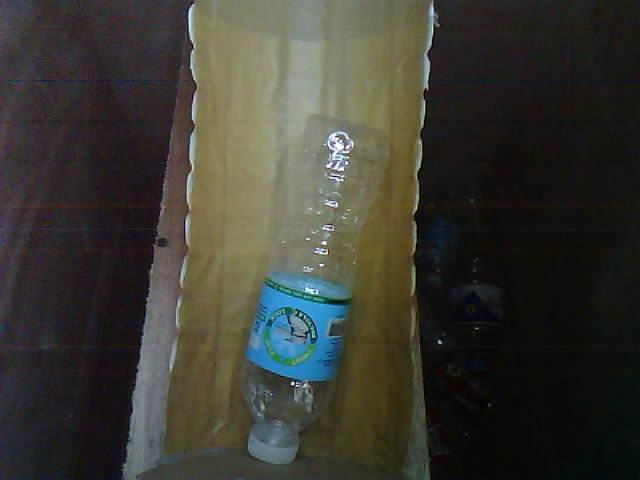small_bottle: (235, 89, 395, 480)
